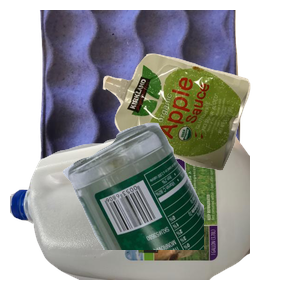glass: (60, 120, 300, 300)
paper: (35, 10, 268, 190)
plastic: (10, 120, 250, 300)
trash: (100, 51, 300, 214)
